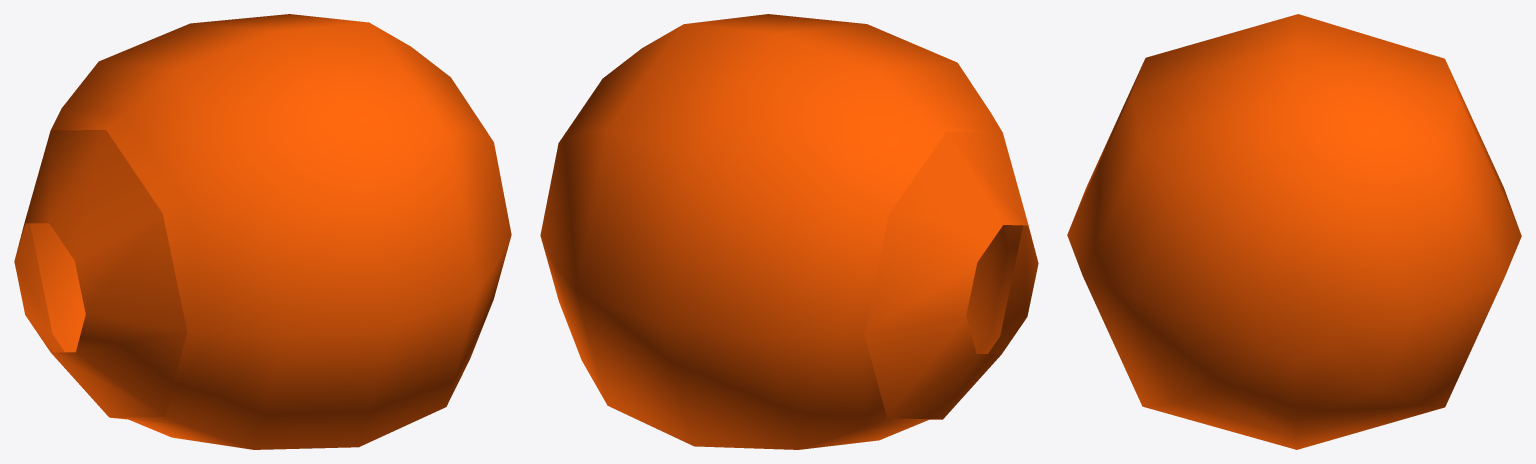
The model's file is Glove_Left.fbx.
3 renders of one model, left to right at view 1: azimuth 30°, elevation 25°; view 2: azimuth 150°, elevation 25°; view 3: azimuth 270°, elevation 25°, orthographic. The views are drawn at different scales.
Parts seen in each view (by area): view 1: Glove_Left; view 2: Glove_Left; view 3: Glove_Left.
Part boxes in pixels (<box>): Glove_Left: <box>14,14,511,449</box>; Glove_Left: <box>540,14,1038,449</box>; Glove_Left: <box>1067,14,1521,449</box>.
Bounding box in the file's own units: 30.07 × 27.48 × 29.71.
